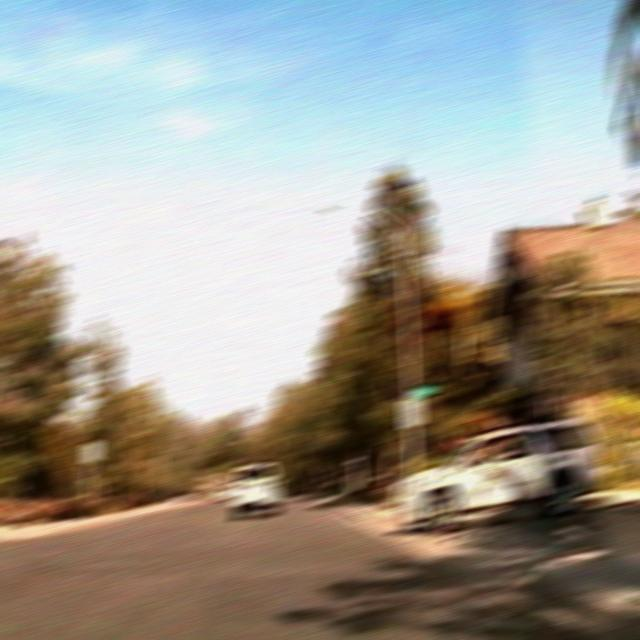speedLimit25: (399, 397, 424, 426)
